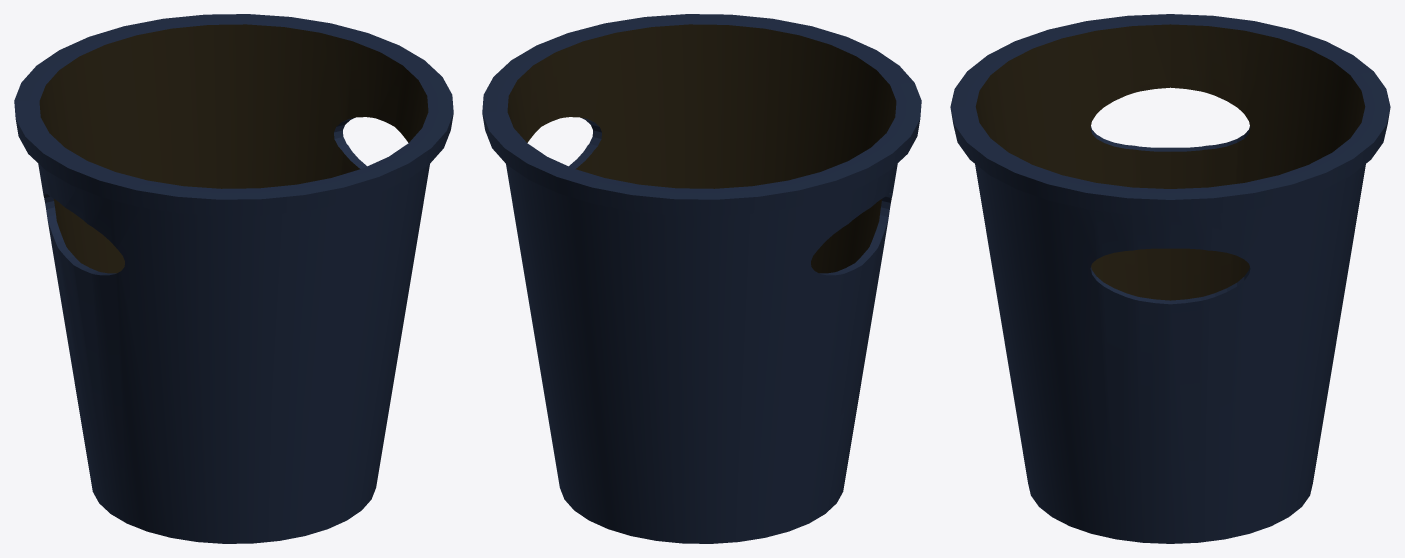
File: trashcan_tier3.fbx
3 renders of one model, left to right at view 1: azimuth 30°, elevation 25°; view 2: azimuth 150°, elevation 25°; view 3: azimuth 270°, elevation 25°, orthographic.
Visible parts, largest first — view 1: Cylinder; view 2: Cylinder; view 3: Cylinder.
Boxes of the visible parts, x1,y1,x2,y2 form: Cylinder: (14,14,453,543); Cylinder: (482,14,921,543); Cylinder: (950,14,1390,543).
Bounding box in the file's own units: 0.6751 × 0.638 × 0.6751.
